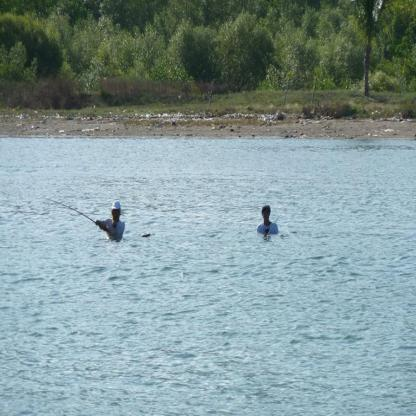face: (264, 211, 270, 221), (114, 210, 120, 220)
